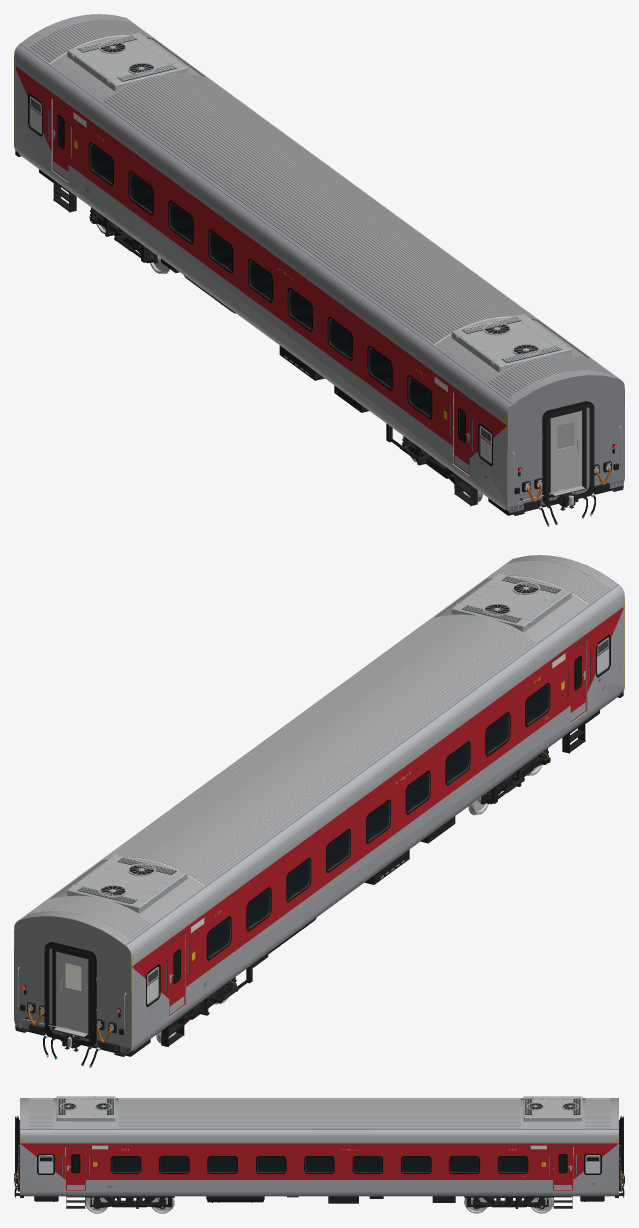
Rendered from lhb-red.glb.
3 views of the same model, one above another, from view 1: azimuth 30°, elevation 25°; view 2: azimuth 150°, elevation 25°; view 3: azimuth 270°, elevation 25° (orthographic). The views are drawn at different scales.
Parts seen in each view (by area): view 1: LHB_Body, LHB_Door_LA; view 2: LHB_Body, LHB_Door_LA; view 3: LHB_Body, LHB_Door_LA.
Boxes of the visible parts, left/top/right/bottom form: LHB_Body: left=14, top=14, right=624, bottom=526; LHB_Door_LA: left=30, top=96, right=573, bottom=463; LHB_Body: left=14, top=555, right=624, bottom=1067; LHB_Door_LA: left=65, top=637, right=608, bottom=1004; LHB_Body: left=14, top=1096, right=624, bottom=1213; LHB_Door_LA: left=38, top=1155, right=600, bottom=1173.
Size of the model in its own units: 3.26 by 4.28 by 24.
Materials: 3 (3 with a texture image).
